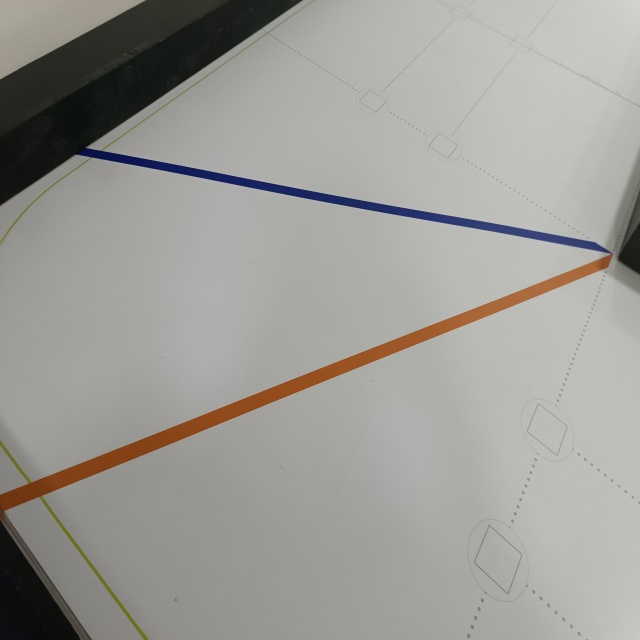blue line: (74, 136, 615, 258)
orange line: (0, 254, 618, 517)
